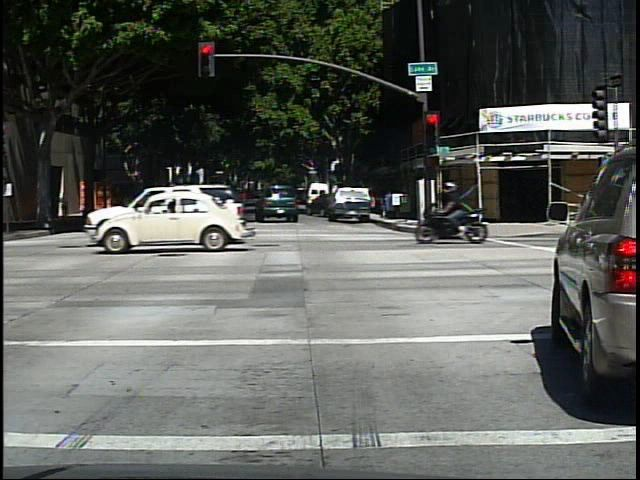person: (452, 176, 490, 239), (60, 191, 71, 224)
